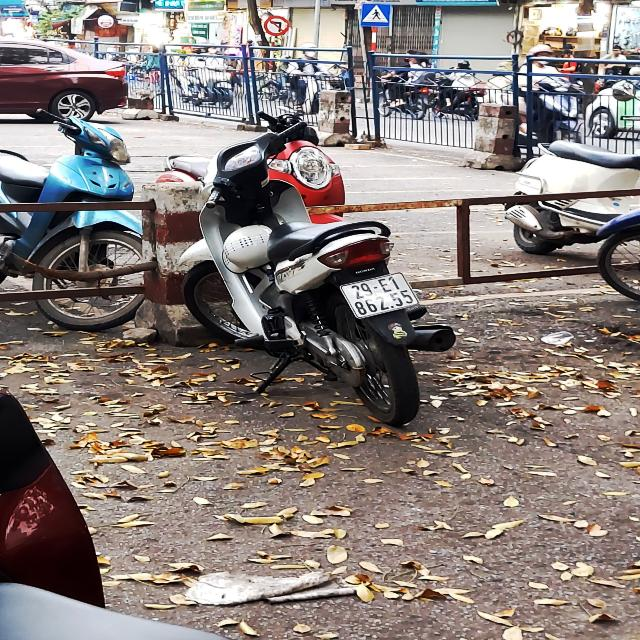license_plate: (338, 271, 424, 321)
